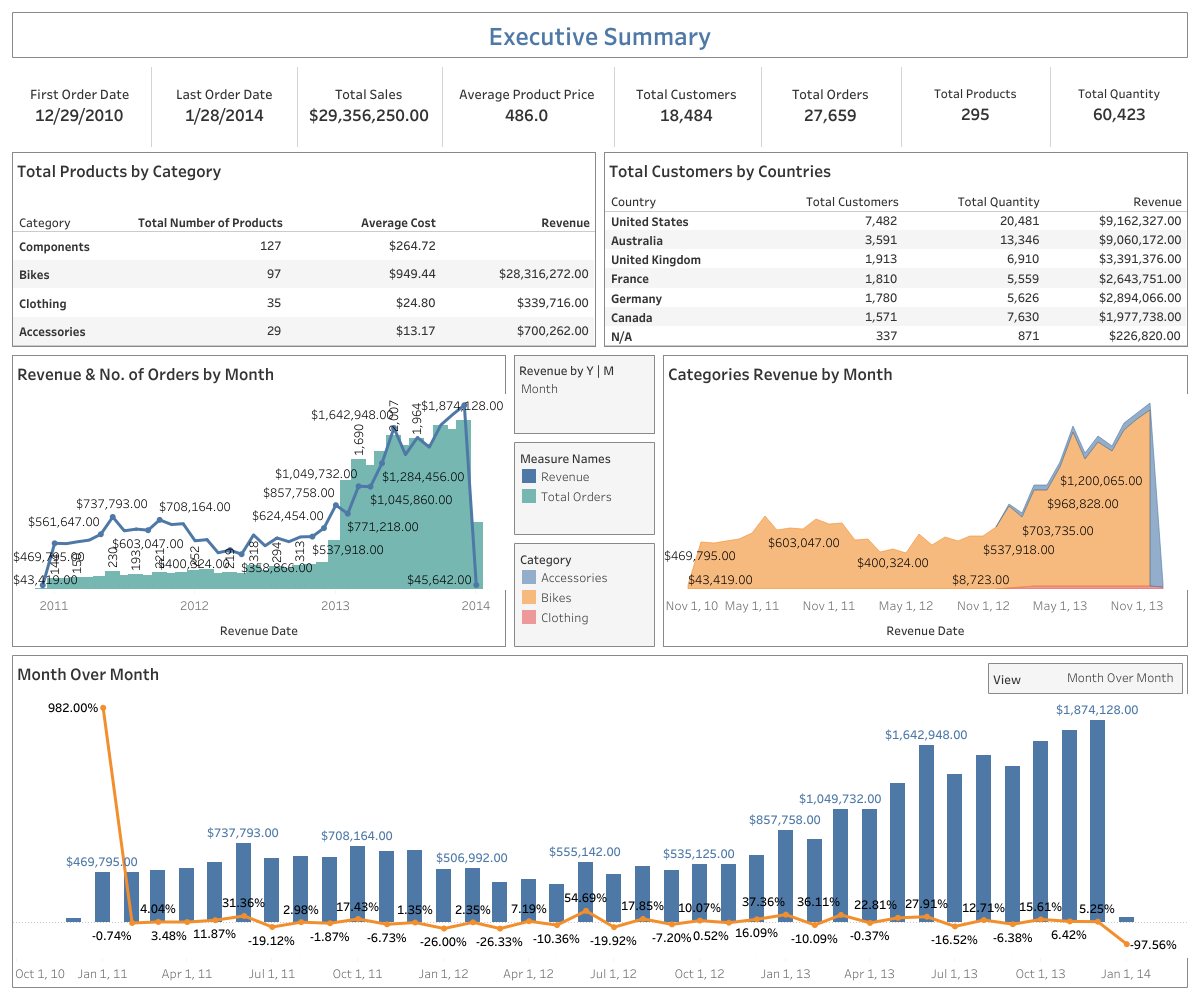

The dashboard page shown, as its layout file describes it:
{"tool":"tableau","page":{"name":"Executive Summary","canvas":[1200,1000],"ordinal":0},"visuals":[{"type":"text","box":[8,8,1184,54]},{"type":"worksheet","title":"first_order","mark":"Automatic","box":[8,62,144.4,86.1]},{"type":"worksheet","title":"last_order","mark":"Automatic","box":[152.4,62,144.4,86.1]},{"type":"worksheet","title":"total_revenue","mark":"Automatic","box":[296.8,62,144.4,86.1]},{"type":"worksheet","title":"avg_price","mark":"Automatic","box":[441.3,62,173,86.1]},{"type":"worksheet","title":"total_customers","mark":"Automatic","box":[614.3,62,144.4,86.1]},{"type":"worksheet","title":"total_orders","mark":"Automatic","box":[758.7,62,144.4,86.1]},{"type":"worksheet","title":"total_products","mark":"Automatic","box":[903.1,62,144.4,86.1]},{"type":"worksheet","title":"total_quantity","mark":"Automatic","box":[1047.5,62,144.4,86.1]},{"type":"blank","box":[151,67,1,80]},{"type":"blank","box":[297,67,1,80]},{"type":"blank","box":[442,67,1,80]},{"type":"blank","box":[614,67,1,80]},{"type":"blank","box":[761,67,1,80]},{"type":"blank","box":[901,67,1,80]},{"type":"blank","box":[1050,67,1,80]},{"type":"worksheet","title":"break_down_by_category","mark":"Automatic","rows":["category"],"box":[8,148.1,592,202.5]},{"type":"worksheet","title":"break_down_by_country","mark":"Automatic","rows":["country"],"box":[600,148.1,592,202.5]},{"type":"worksheet","title":"revenue_n_order_over_months","mark":"Automatic","rows":["order_number","sales_amount"],"cols":["Calculation_2537004341684895777"],"box":[8,350.6,502,300.4]},{"type":"parameter","param":"[Parameters].[Parameter 2]","box":[510,350.6,149,87]},{"type":"worksheet","title":"categories_trend","mark":"Area","rows":["sales_amount"],"cols":["Calculation_2537004341684895777"],"box":[659,350.6,533,300.4]},{"type":"legend","title":"revenue_n_order_over_months","param":"[federated.123js9d03f8cjo15x891f0hlhi6t (copy 2)].[:Measure Names]","box":[510,437.6,149,101.2]},{"type":"legend","title":"categories_trend","param":"[federated.123js9d03f8cjo15x891f0hlhi6t (copy 2)].[none:category:nk]","box":[510,538.9,149,112.1]},{"type":"worksheet","title":"dod_sales","mark":"Bar","rows":["sales_amount"],"cols":["Calculation_2537004341674737688"],"box":[8,651,1184,341]},{"type":"parameter","param":"[Parameters].[Parameter 1]","box":[988,663,195,31]}]}

Visuals, with their boxes in screenshot pixels (x1, y1, x2, y2), scaled from the page's 1200x1000 canvas onto the 1199x999 screenshot:
text: 8,8,1191,62
"first_order" worksheet: 8,62,152,148
"last_order" worksheet: 152,62,297,148
"total_revenue" worksheet: 297,62,441,148
"avg_price" worksheet: 441,62,614,148
"total_customers" worksheet: 614,62,758,148
"total_orders" worksheet: 758,62,902,148
"total_products" worksheet: 902,62,1047,148
"total_quantity" worksheet: 1047,62,1191,148
blank: 151,67,152,147
blank: 297,67,298,147
blank: 442,67,443,147
blank: 613,67,614,147
blank: 760,67,761,147
blank: 900,67,901,147
blank: 1049,67,1050,147
"break_down_by_category" worksheet: 8,148,600,350
"break_down_by_country" worksheet: 600,148,1191,350
"revenue_n_order_over_months" worksheet: 8,350,510,650
parameter: 510,350,658,437
"categories_trend" worksheet (Area marks): 658,350,1191,650
"revenue_n_order_over_months" legend: 510,437,658,538
"categories_trend" legend: 510,538,658,650
"dod_sales" worksheet (Bar marks): 8,650,1191,991
parameter: 987,662,1182,693
